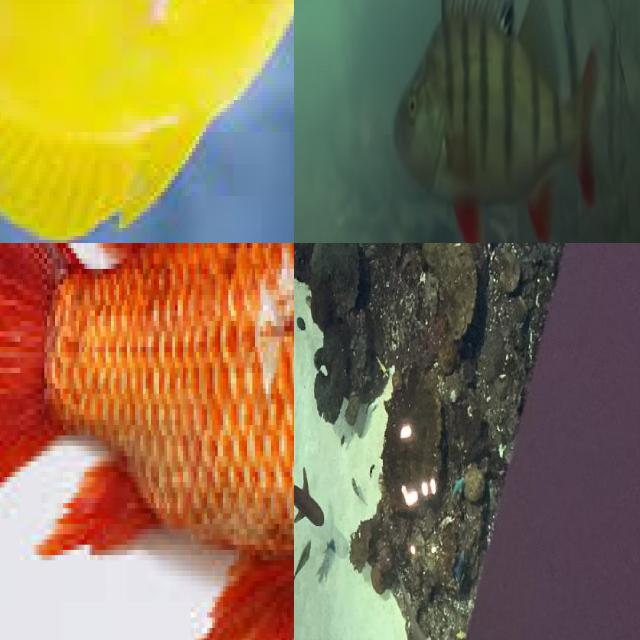fish: (0, 243, 294, 640), (294, 0, 640, 243), (0, 0, 294, 243)
